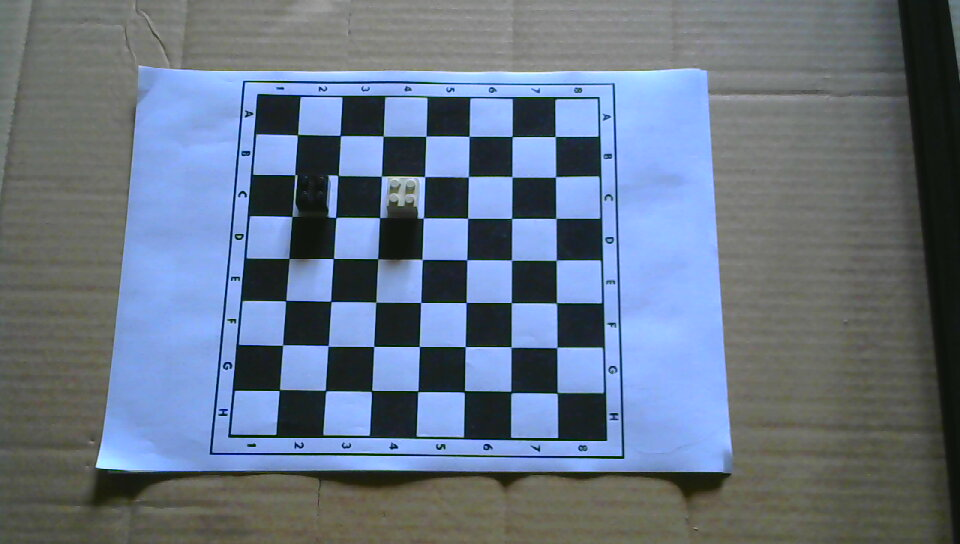bp: (294, 173, 331, 214)
wp: (386, 175, 421, 215)
